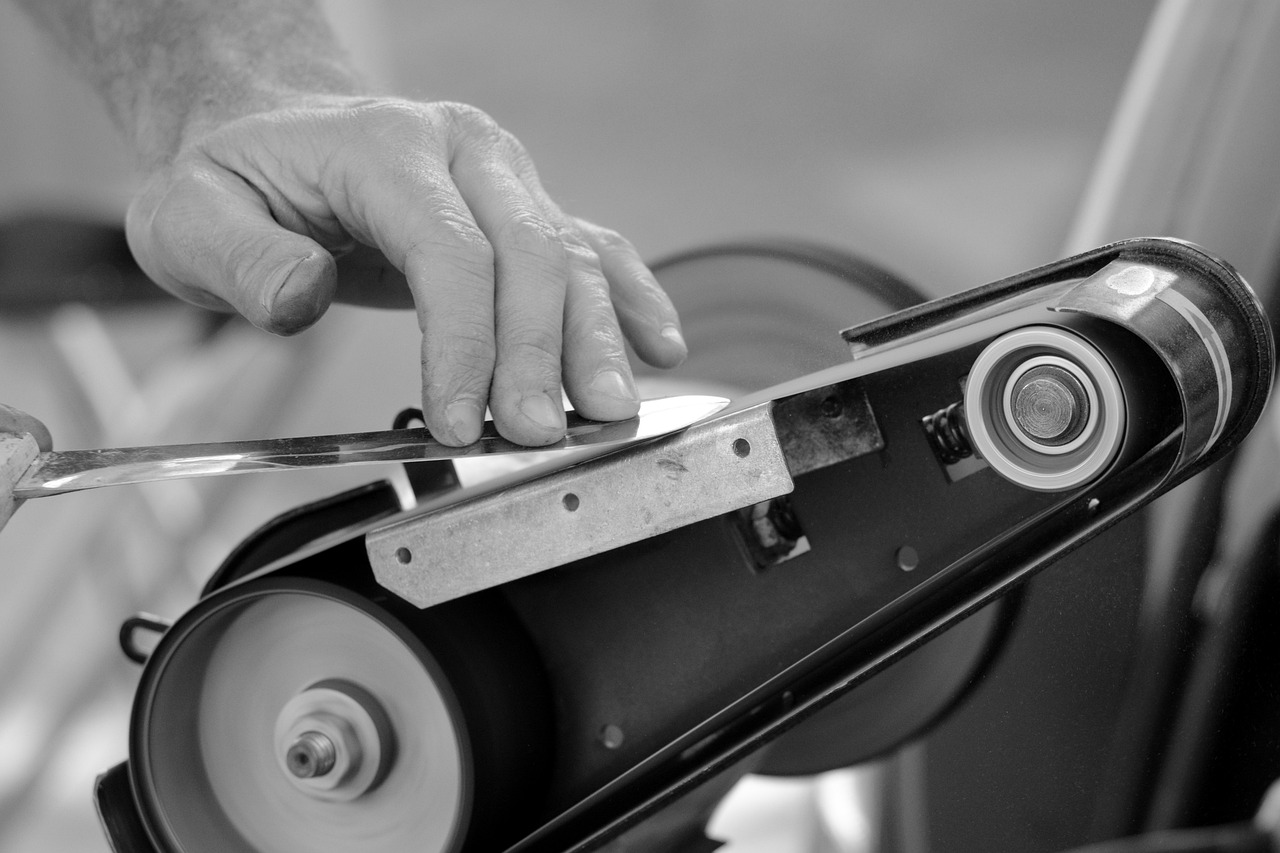knife: (0, 387, 742, 513)
